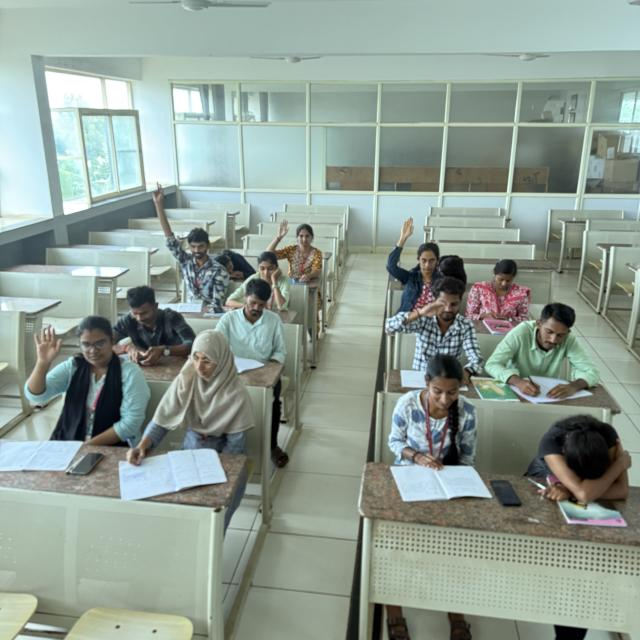Hand Rising: (25, 311, 142, 431), (150, 174, 221, 308), (383, 213, 446, 301), (266, 216, 330, 278)
Reading: (394, 354, 476, 483)
Sleeping: (530, 408, 632, 495), (208, 230, 259, 290)
Using Phone: (465, 257, 538, 333)
Writing: (122, 338, 248, 492), (491, 311, 613, 398)
